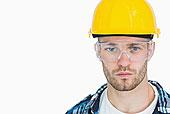helmet: (89, 1, 163, 38)
